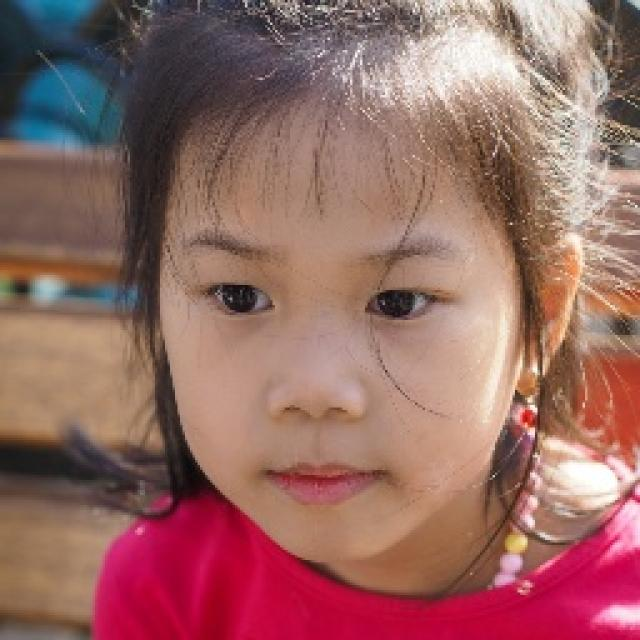earlobe: (515, 348, 548, 398)
eye: (363, 287, 440, 323), (200, 282, 272, 316)
nose: (264, 396, 372, 449)
wholeear: (515, 232, 583, 397)
